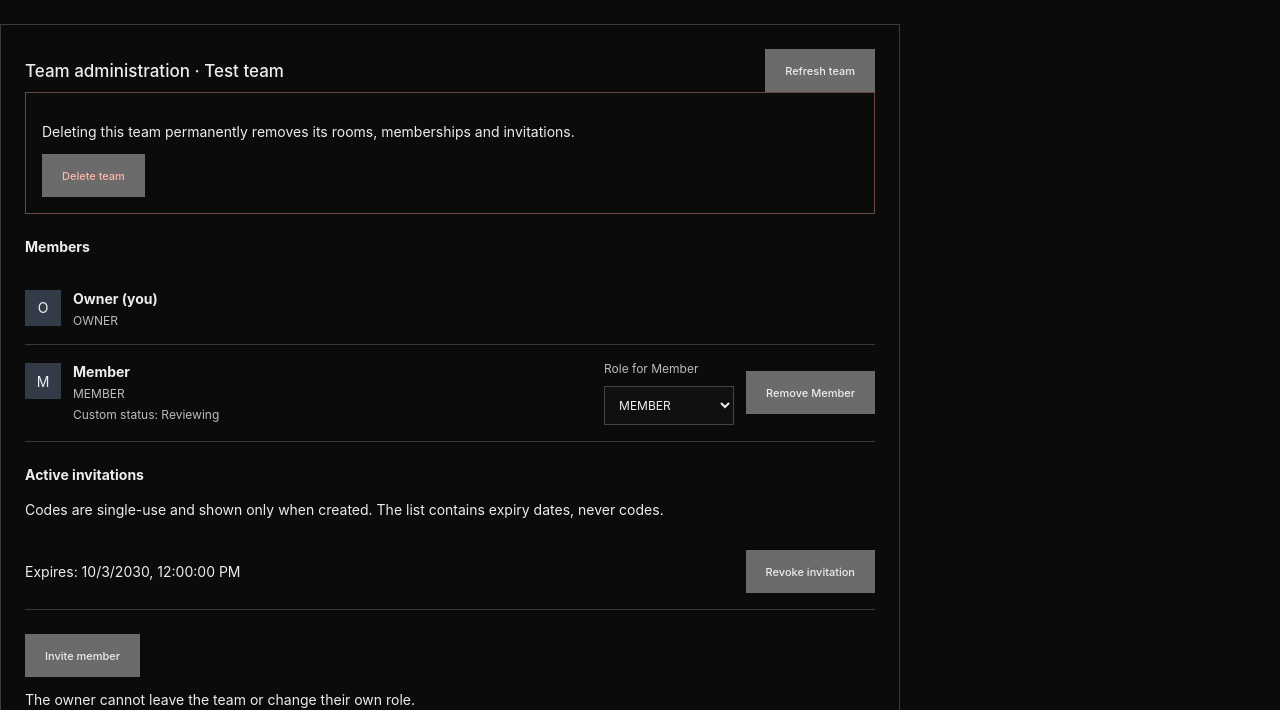
Scenario: retains quota/conflict feedback after automatic refresh and allows recovery
The width and height of the screenshot is (1280, 710).
Expected: the button "Refresh team" is enabled, [765, 49, 875, 92]
Click the button "Invite member" at (83, 656), box [25, 634, 140, 677]
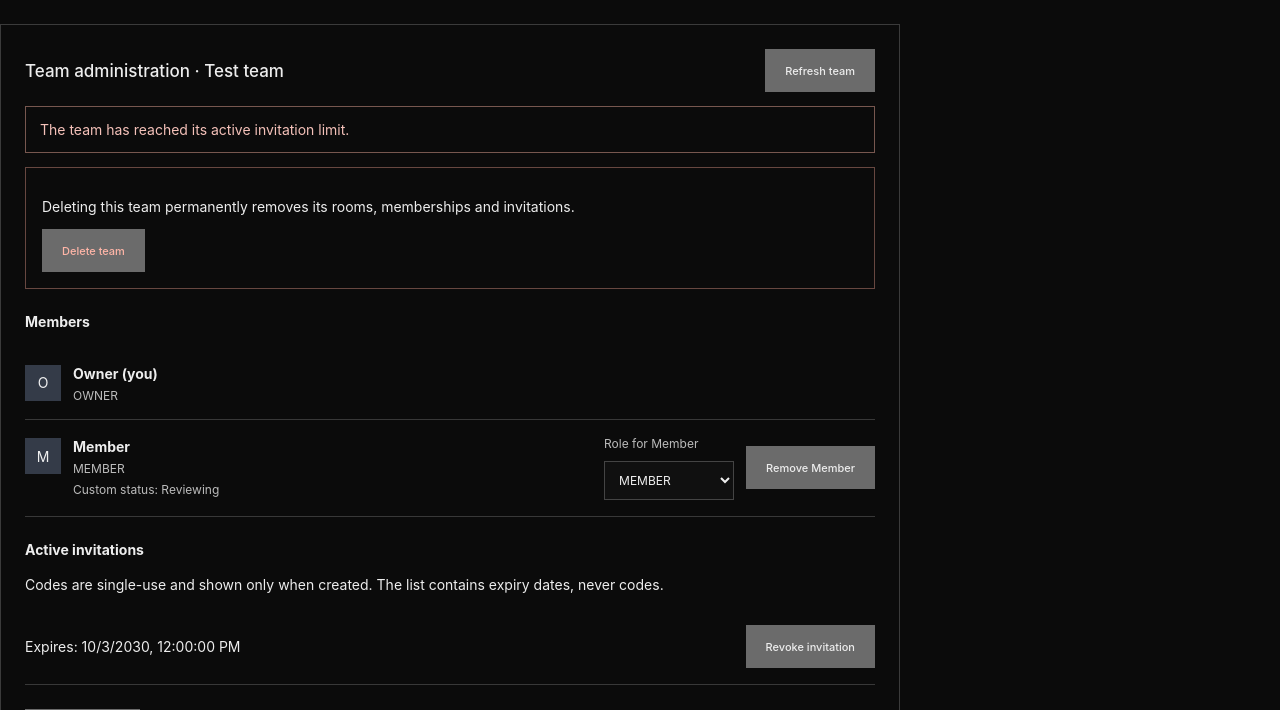
Expected: the button "Refresh team" is enabled, [765, 49, 875, 92]
Now the message reads "The team has reached its active invitation limit.", box [40, 121, 349, 138]
